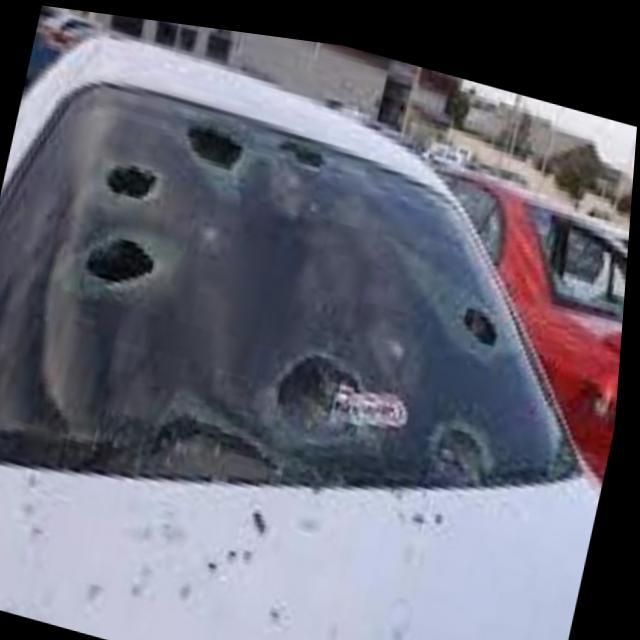glass shatter: (0, 72, 572, 458)
